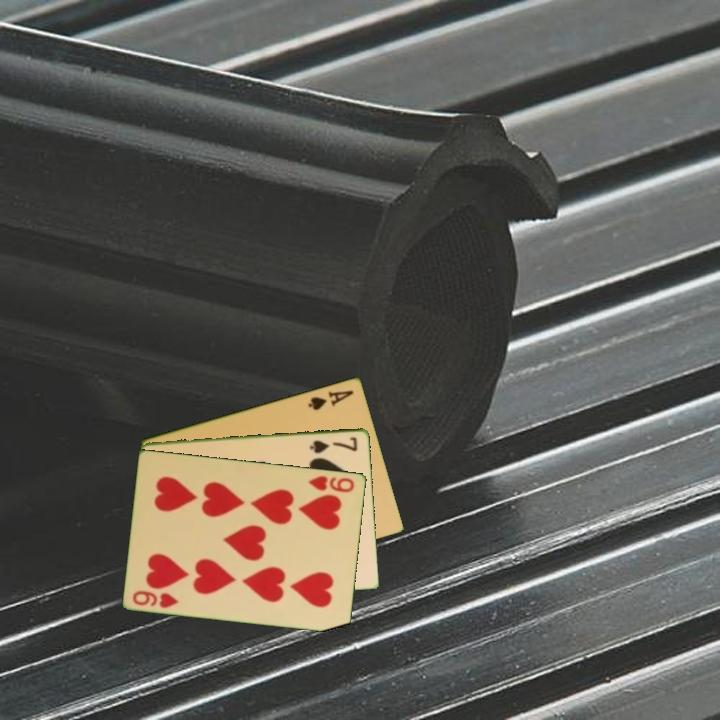7s: (307, 433, 360, 456)
9h: (129, 587, 181, 611), (305, 472, 358, 495)
As: (304, 386, 356, 413)
